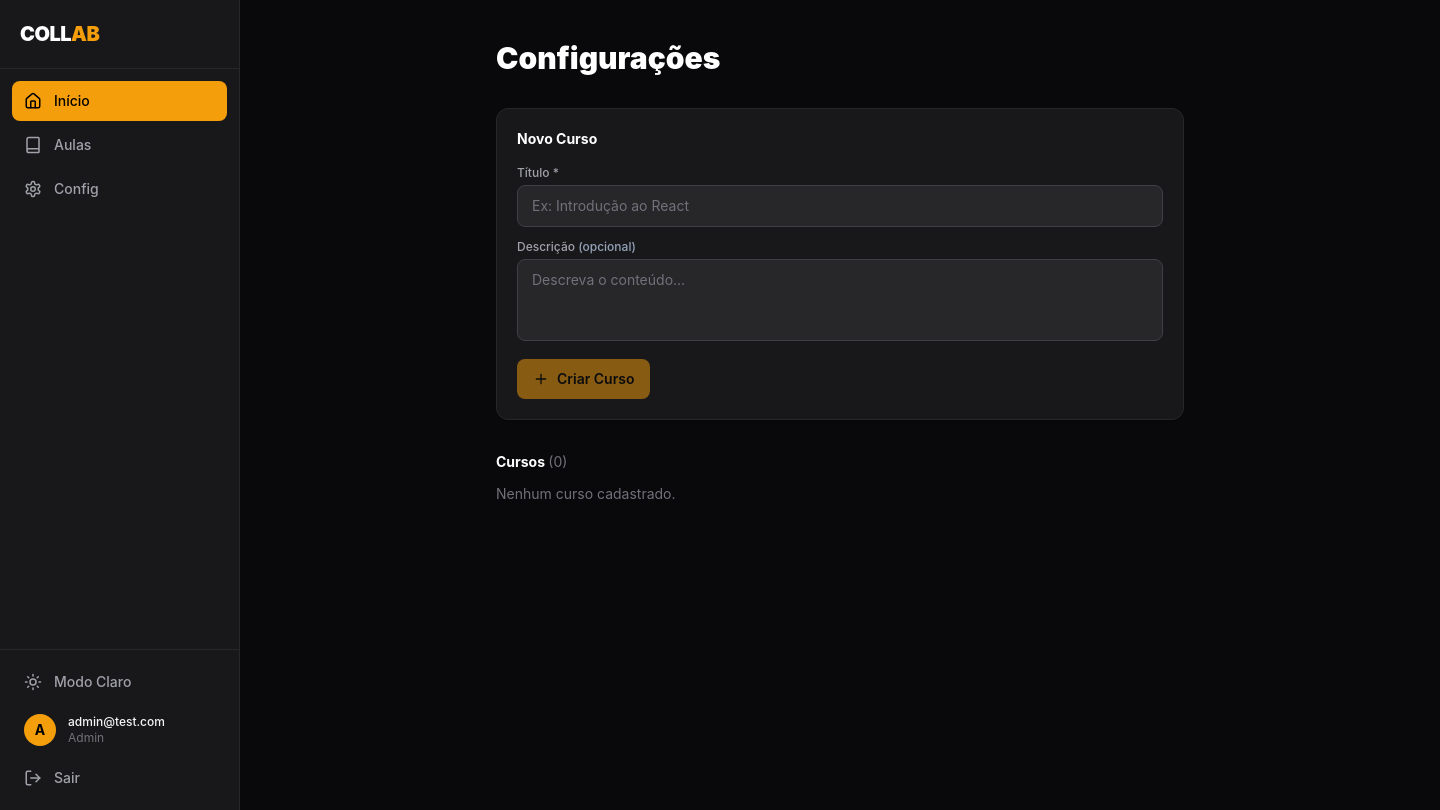
Scenario: ConfigPage › shows error when createCourse fails
Type "Curso X" into the field with placeholder "Ex: Introdução ao React" at point(840, 206), box left=517, top=185, right=1163, bottom=227
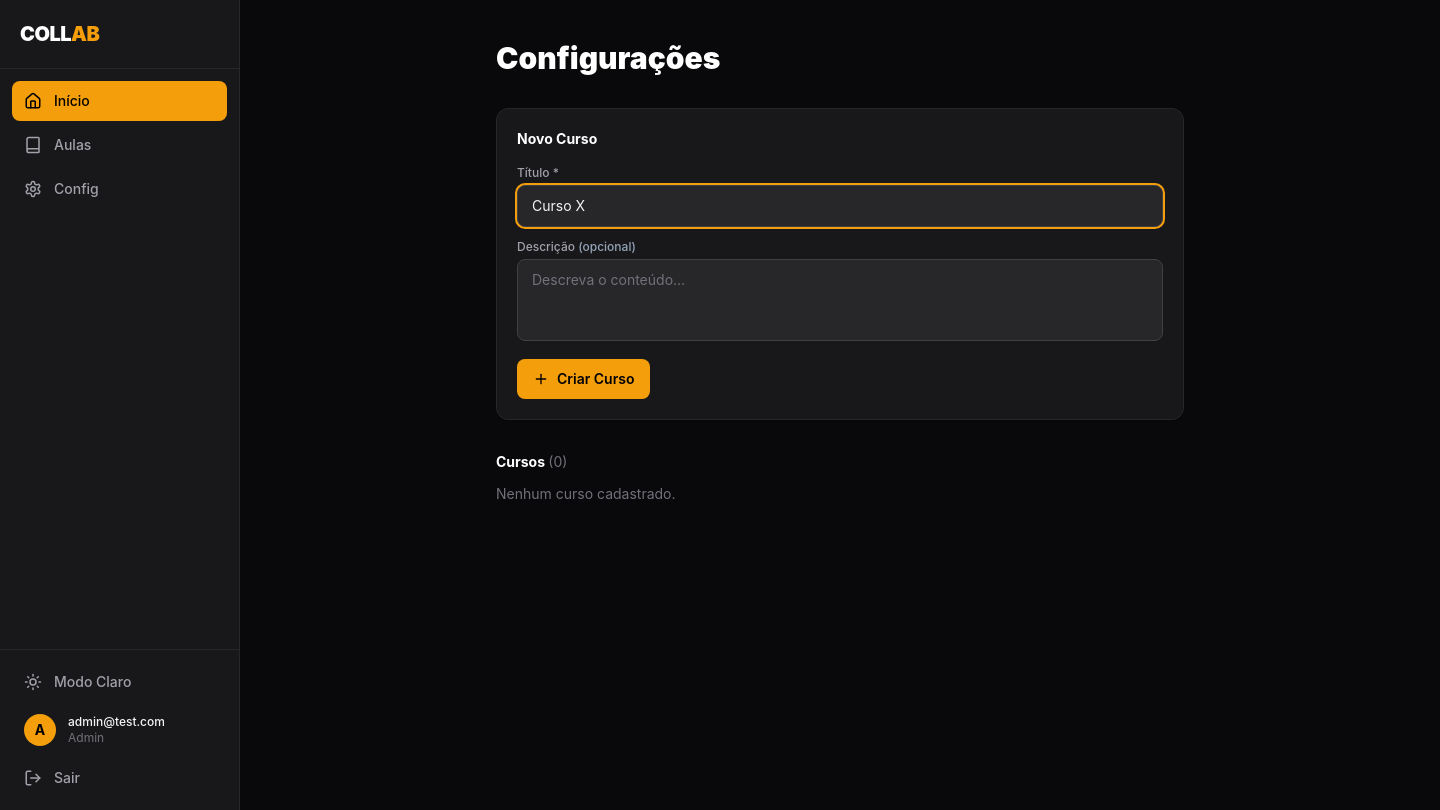
Click the button "Criar Curso" at point(584, 379), box left=517, top=359, right=650, bottom=399
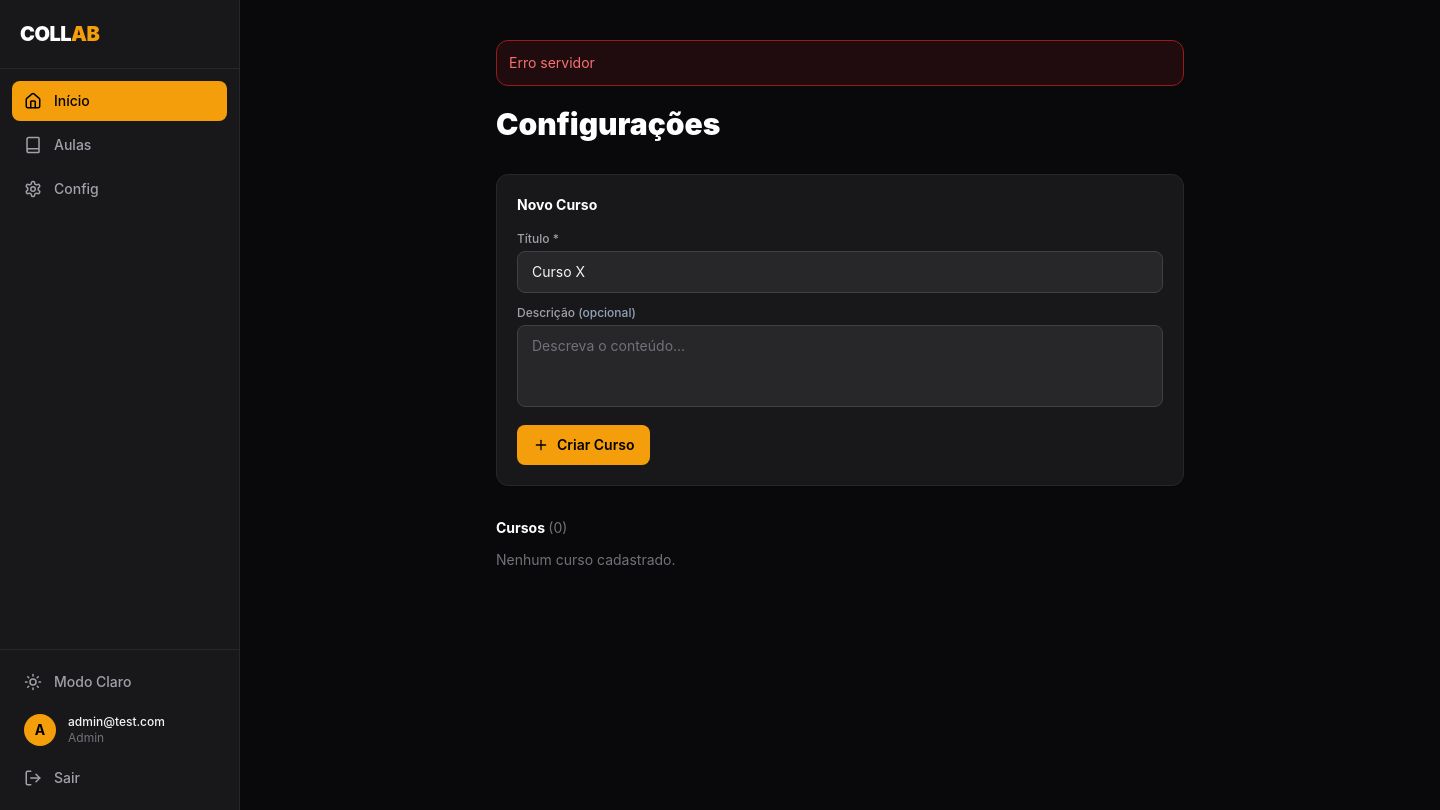
Expected: the text "Erro servidor" is shown, left=496, top=40, right=1184, bottom=86
